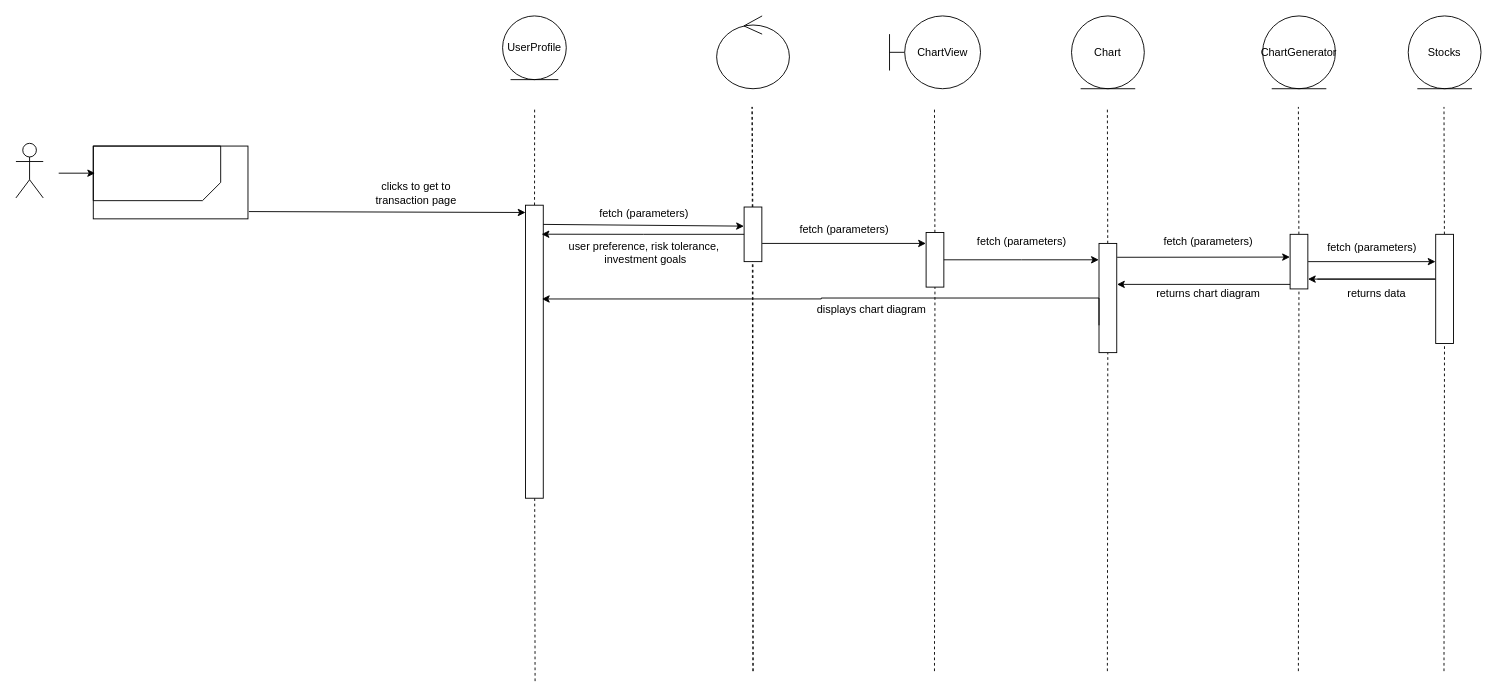
Image size: 1497x698. Some labels were removed from this diagram. The shapes that lost their labels are listed below. From the top down, each one's centre as x and y in pixels, then its label:
At (x=752, y=52): "UserManager".
At (x=29, y=170): "Actor".
At (x=156, y=173): "Login".
